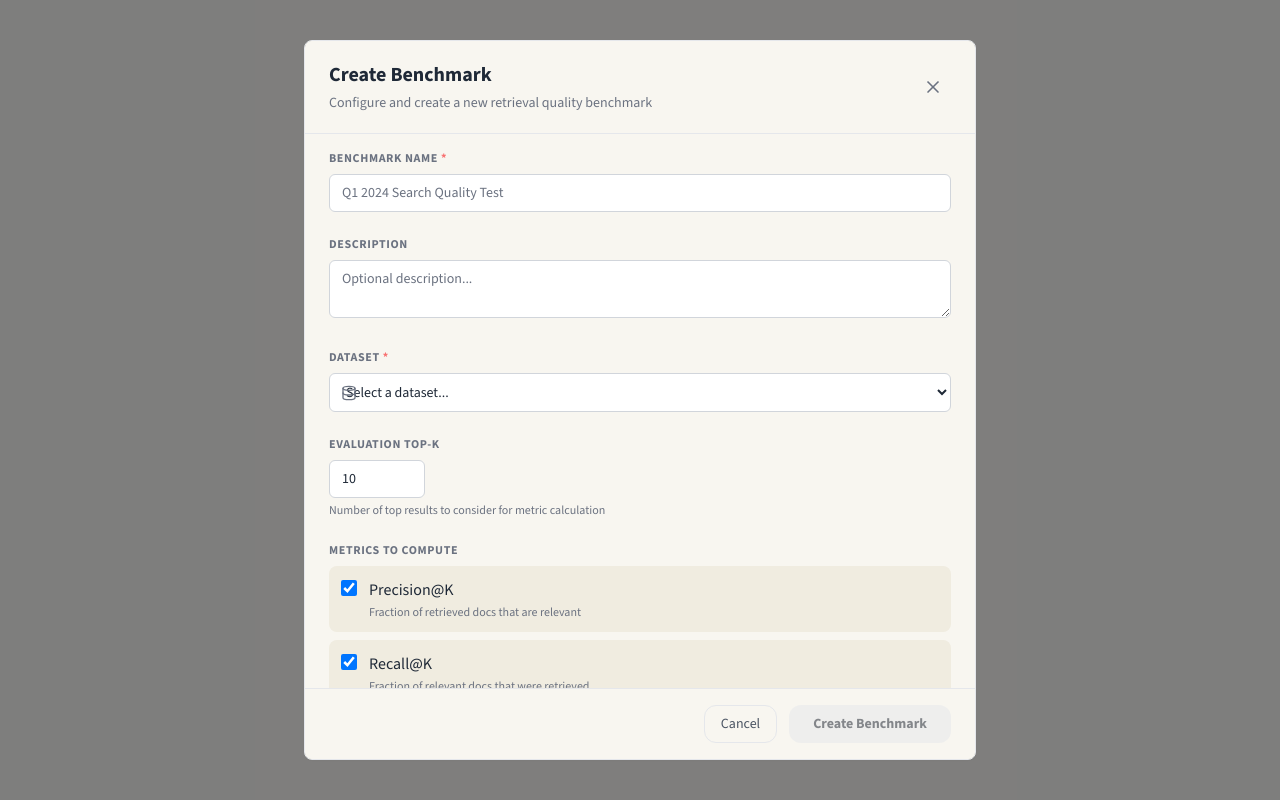
CreateBenchmarkModal › shows a warning when a dataset has no resolved mappings
This screenshot has width=1280, height=800.
Select "Seed Dataset (1 queries)" in the dropdown at (640, 392), box [329, 373, 951, 412]
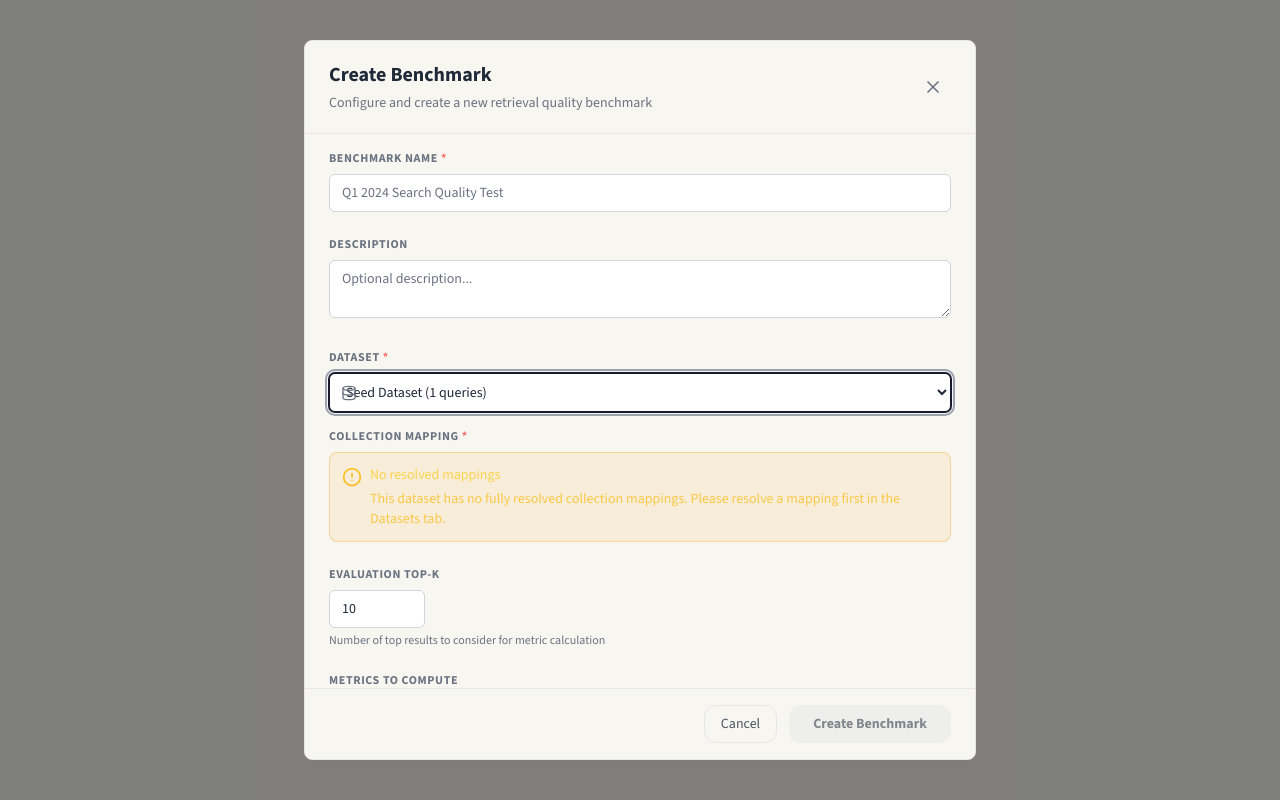
Expected: the button "Create Benchmark" is disabled, [789, 705, 951, 743]
Now the text "No resolved mappings" is shown, box [370, 465, 500, 484]
